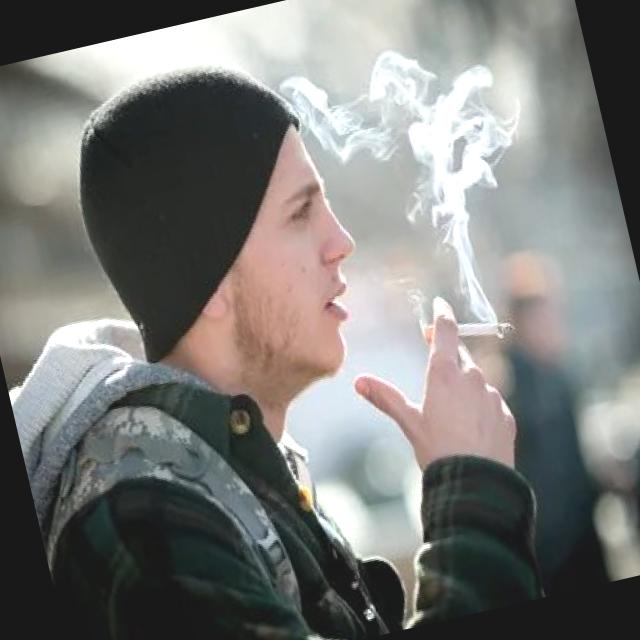smoke: (417, 299, 527, 365)
